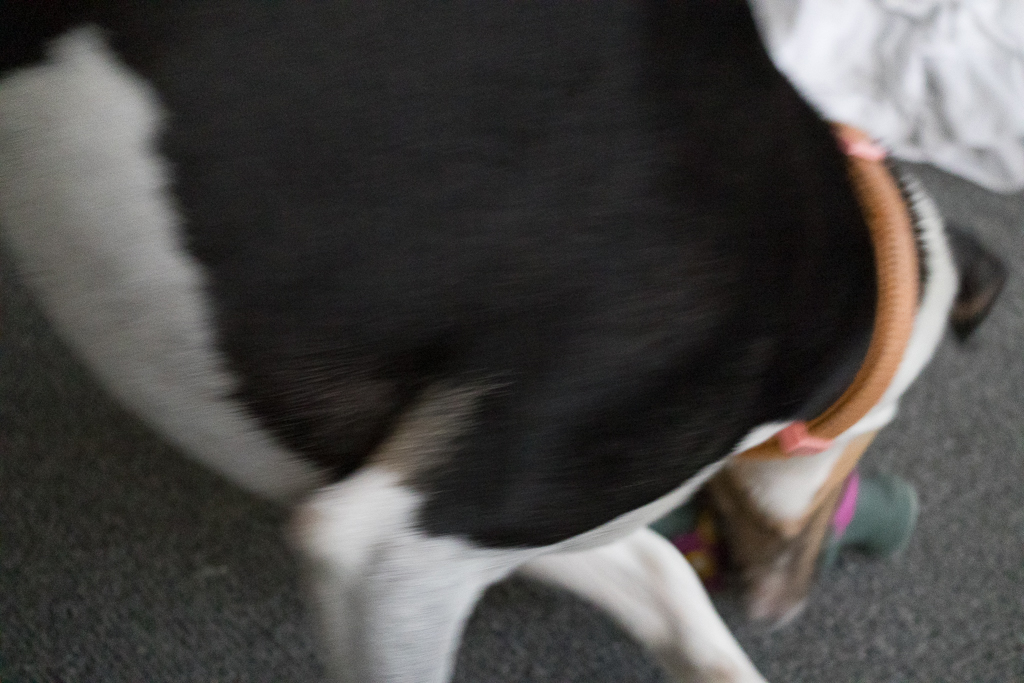Dog: (0, 0, 1013, 683)
Humanoid: (623, 417, 932, 614)
